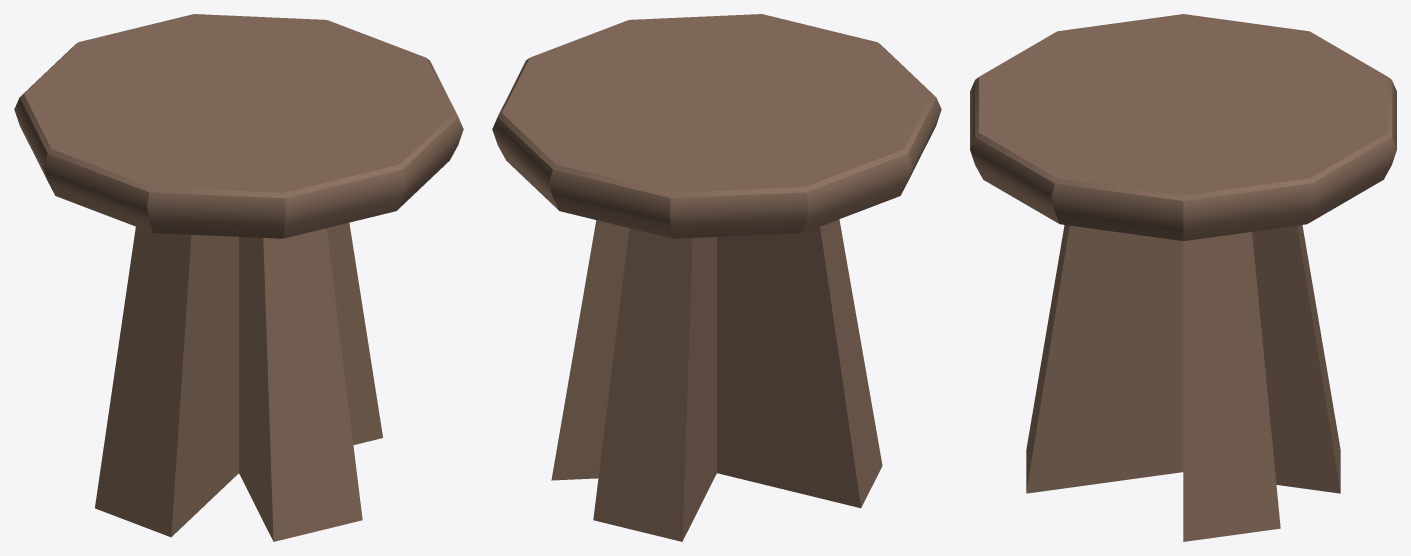
File: Stool.fbx
3 renders of one model, left to right at view 1: azimuth 30°, elevation 25°; view 2: azimuth 150°, elevation 25°; view 3: azimuth 270°, elevation 25°, orthographic.
Parts seen in each view (by area): view 1: pCylinder8; view 2: pCylinder8; view 3: pCylinder8.
Boxes of the visible parts, x1=… form: pCylinder8: x1=14, y1=14, x2=463, y2=541; pCylinder8: x1=492, y1=14, x2=941, y2=541; pCylinder8: x1=970, y1=14, x2=1396, y2=541.
Size of the model in its own units: 2.05 by 1.85 by 1.95.
